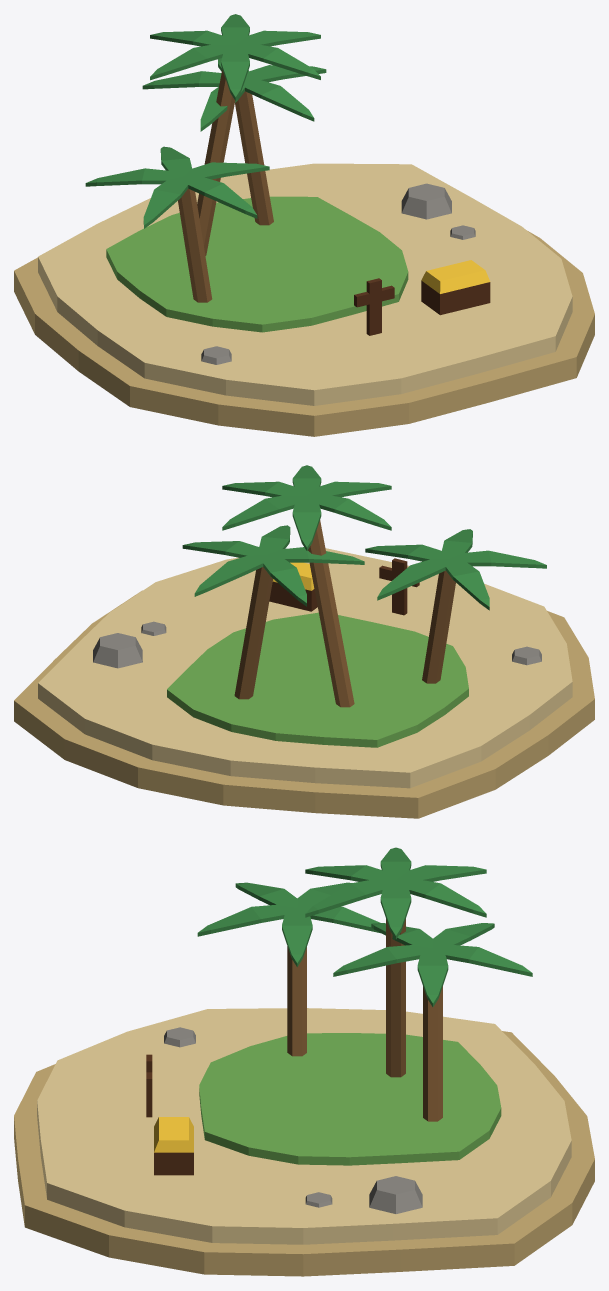
Rendered from desert-island-2x2.glb.
3 renders of one model, top to bottom at view 1: azimuth 30°, elevation 25°; view 2: azimuth 150°, elevation 25°; view 3: azimuth 270°, elevation 25°, orthographic. The views are drawn at different scales.
Parts seen in each view (by area): view 1: DesertIsland2x2; view 2: DesertIsland2x2; view 3: DesertIsland2x2.
Part boxes in pixels (box(x1,y1,x2,y2)): DesertIsland2x2: box(14, 14, 594, 436); DesertIsland2x2: box(14, 465, 594, 818); DesertIsland2x2: box(14, 847, 594, 1276).
Size of the model in its own units: 1.83 by 0.9353 by 1.88.
1 material, 1 textured.
